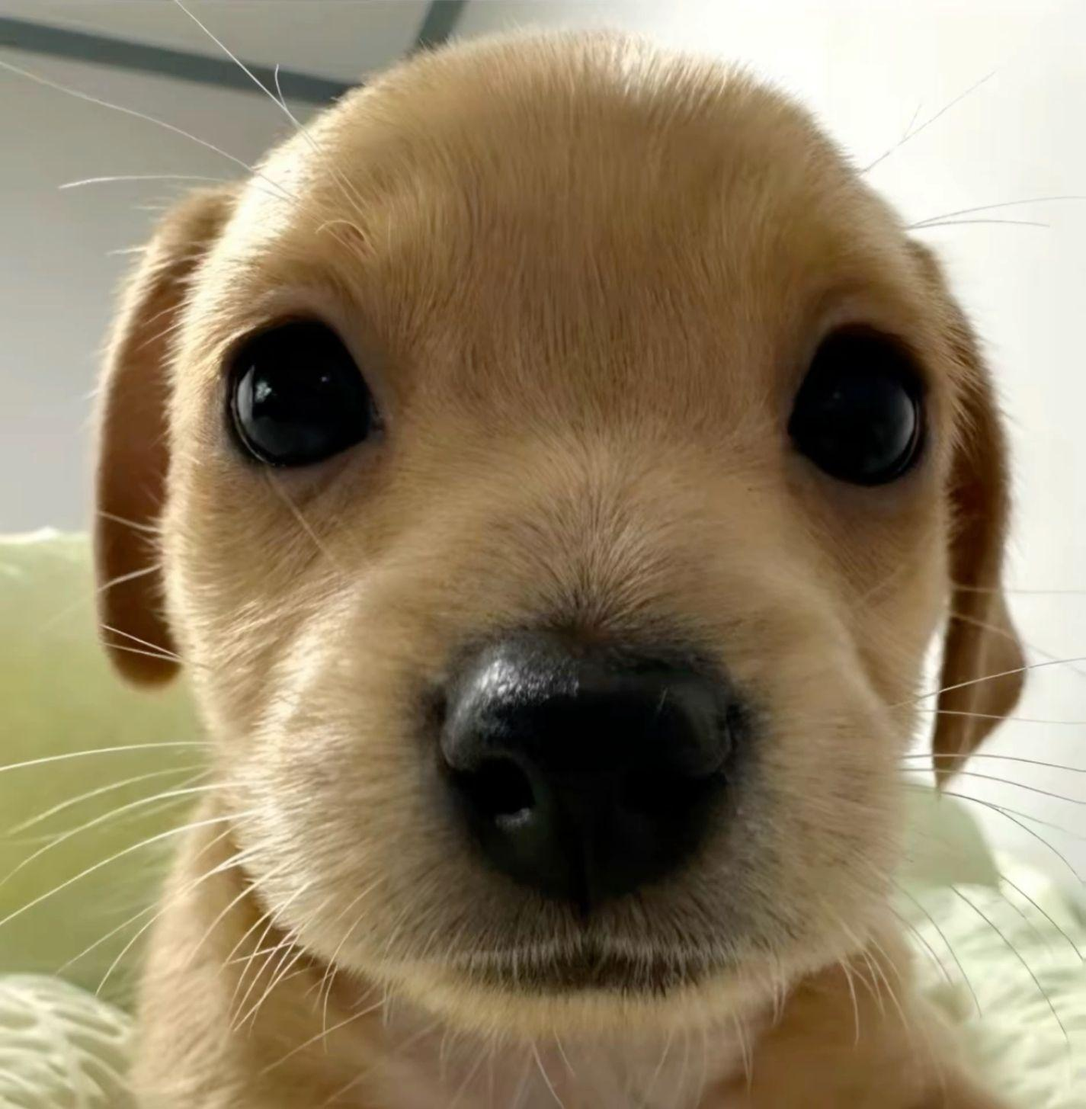puppy-dog: (87, 23, 1027, 1109)
